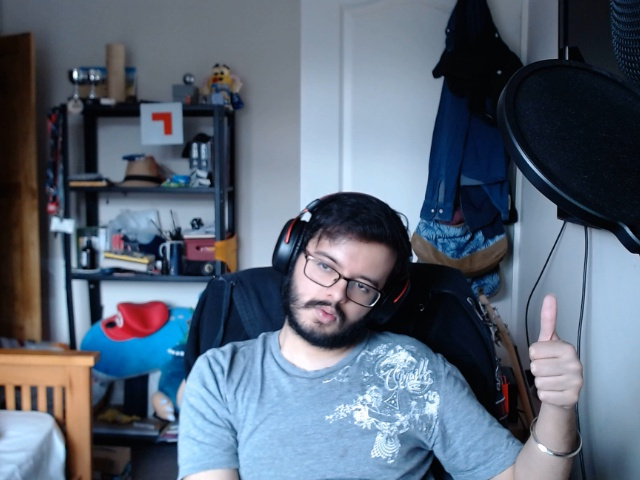Thumbs up: (521, 285, 597, 422)
